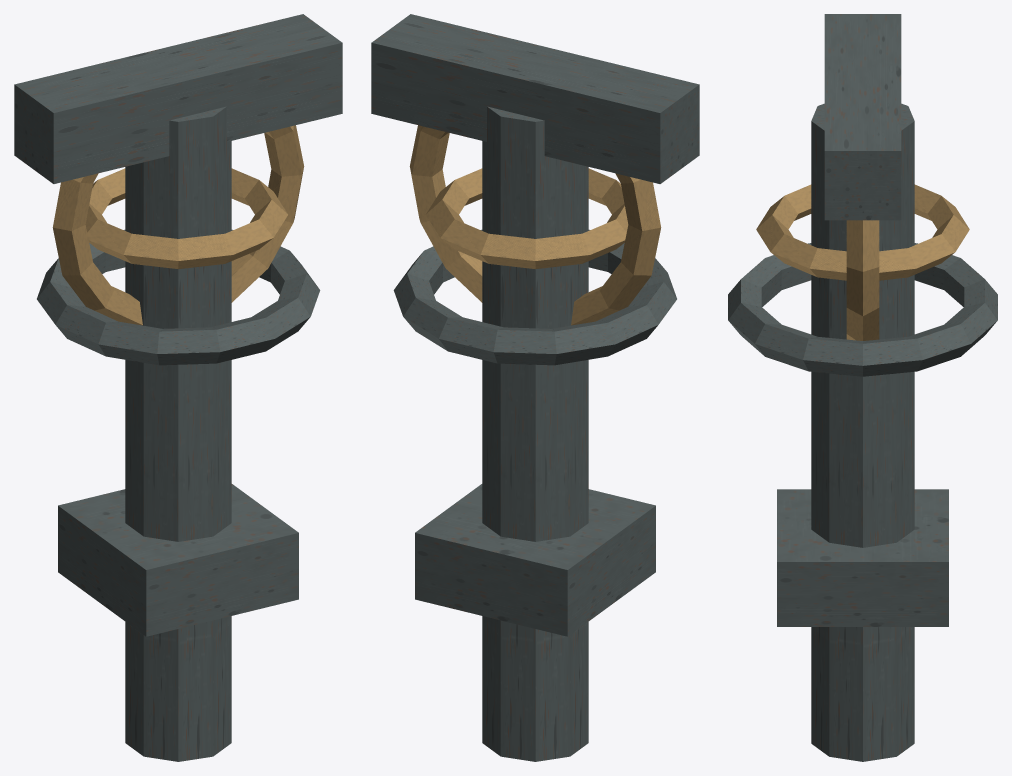
Rendered from pr-019_anchor_point_peg__inactive.obj.
3 views of the same model, side by side, from view 1: azimuth 30°, elevation 25°; view 2: azimuth 150°, elevation 25°; view 3: azimuth 270°, elevation 25° (orthographic). The views are drawn at different scales.
Visible parts, largest first — view 1: pr-019_anchor_point_peg__inactive; view 2: pr-019_anchor_point_peg__inactive; view 3: pr-019_anchor_point_peg__inactive.
Part boxes in pixels (x1,y1,x2,y2): pr-019_anchor_point_peg__inactive: (14, 14, 342, 761); pr-019_anchor_point_peg__inactive: (371, 14, 699, 761); pr-019_anchor_point_peg__inactive: (728, 14, 997, 761).
Size of the model in its own units: 0.34 by 0.76 by 0.2827.
Materials: 2 (2 with a texture image).
